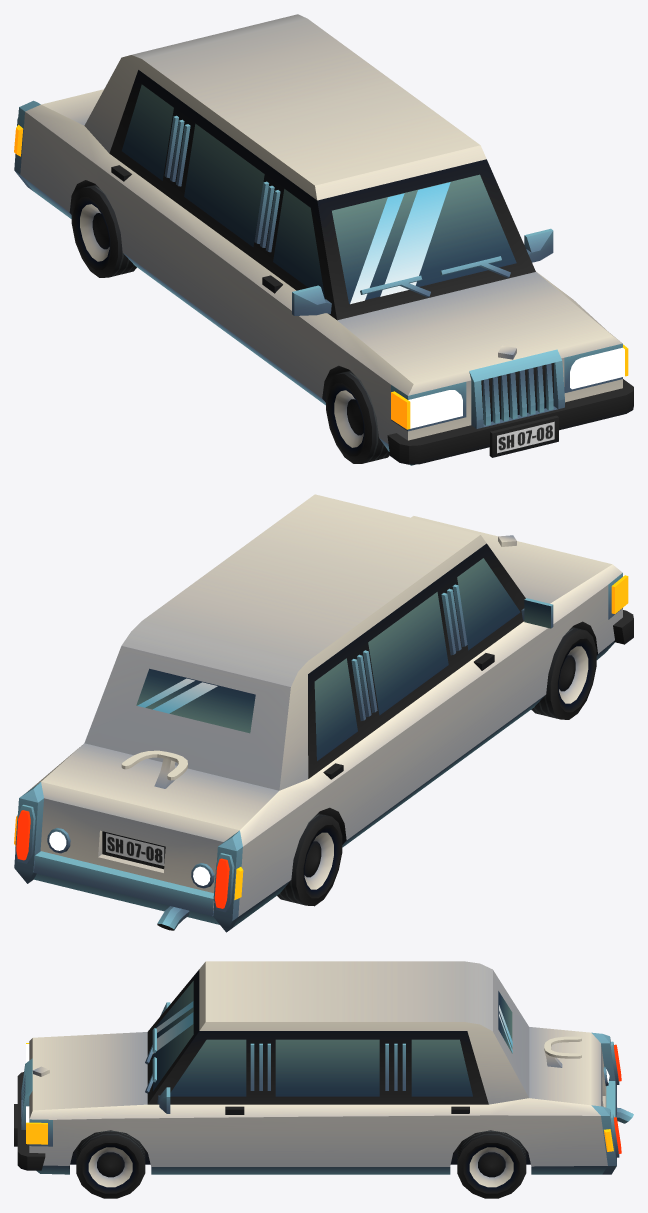
File: Limosine+.fbx
3 views of the same model, one above another, from view 1: azimuth 30°, elevation 25°; view 2: azimuth 150°, elevation 25°; view 3: azimuth 270°, elevation 25° (orthographic). The views are drawn at different scales.
Visible parts, largest first — view 1: Limosine+; view 2: Limosine+; view 3: Limosine+.
Part boxes in pixels (x1,y1,x2,y2): Limosine+: (14,14,633,465); Limosine+: (14,494,633,932); Limosine+: (14,961,633,1198).
Bounding box in the file's own units: 2.31 × 1.89 × 6.39.
1 material, 1 textured.
